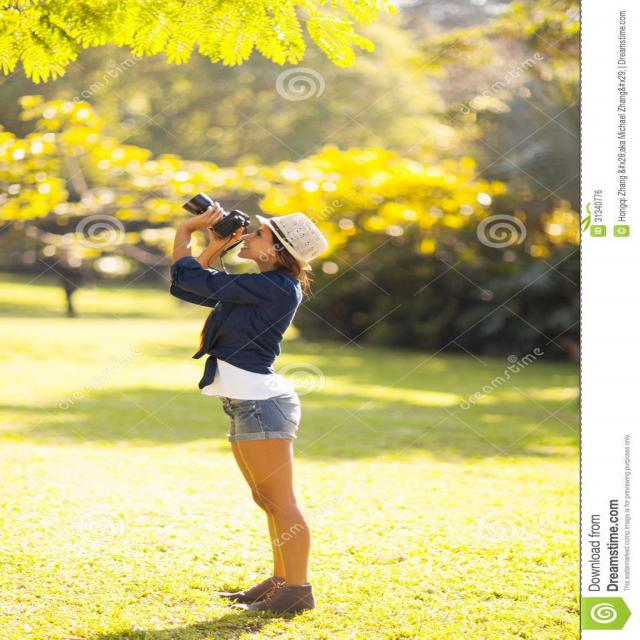nomask: (236, 217, 295, 260)
